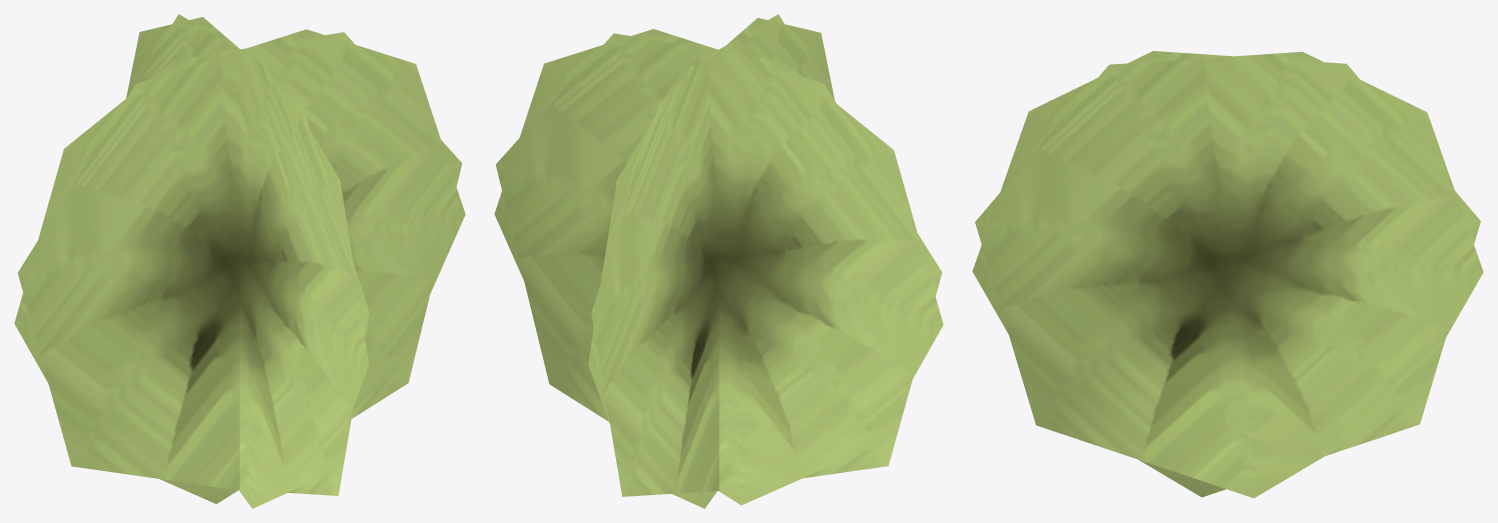
Rendered from painted-weed-022.glb.
The picture shows the model from 3 angles, left to right: view 1: azimuth 30°, elevation 25°; view 2: azimuth 150°, elevation 25°; view 3: azimuth 270°, elevation 25°; orthographic projection.
Size of the model in its own units: 10 by 9.64 by 10.
Materials: 1 (1 with a texture image).
